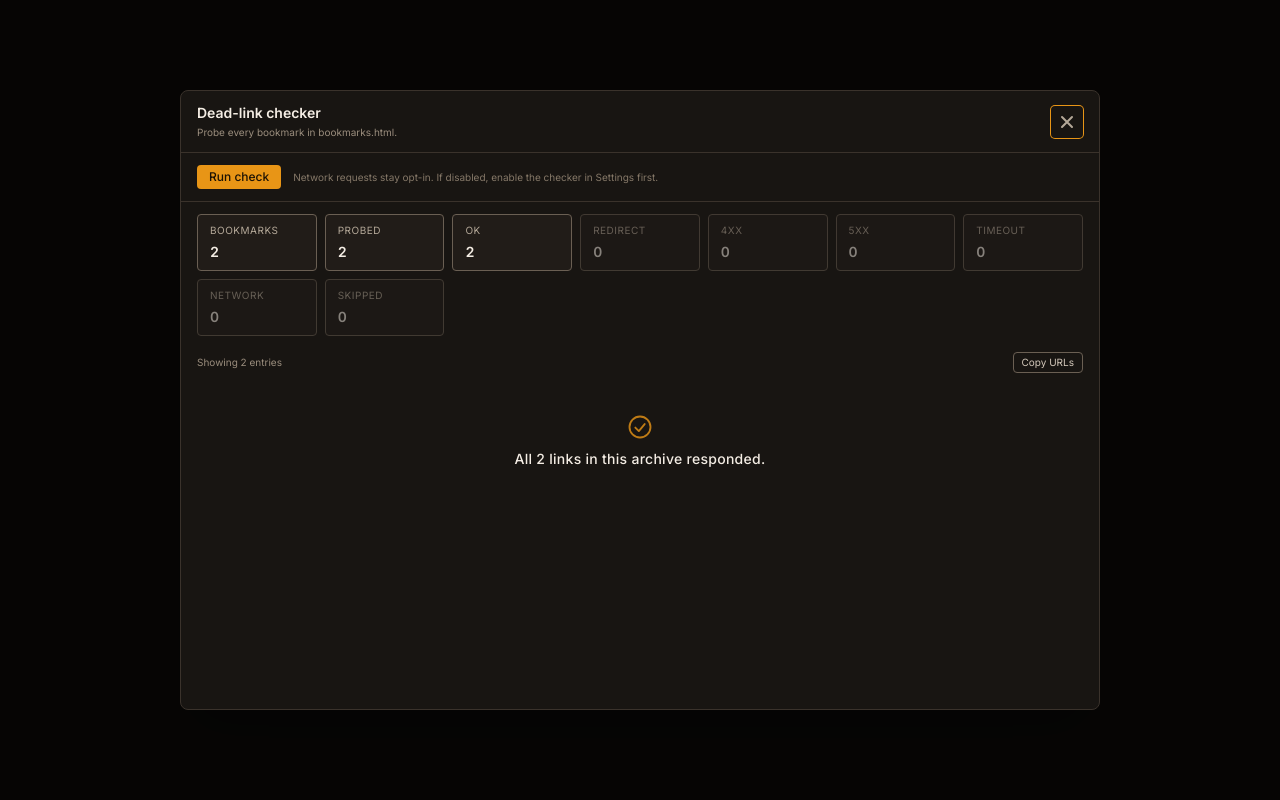
Test case: DeadLinkModal › Copy URLs writes the visible entries' URLs to the clipboard
Check: the text "Showing 2 entries" is shown, box x1=197 y1=355 x2=282 y2=370
Click the button "Copy URLs". click: (1048, 362)
box: x1=1012 y1=352 x2=1083 y2=373
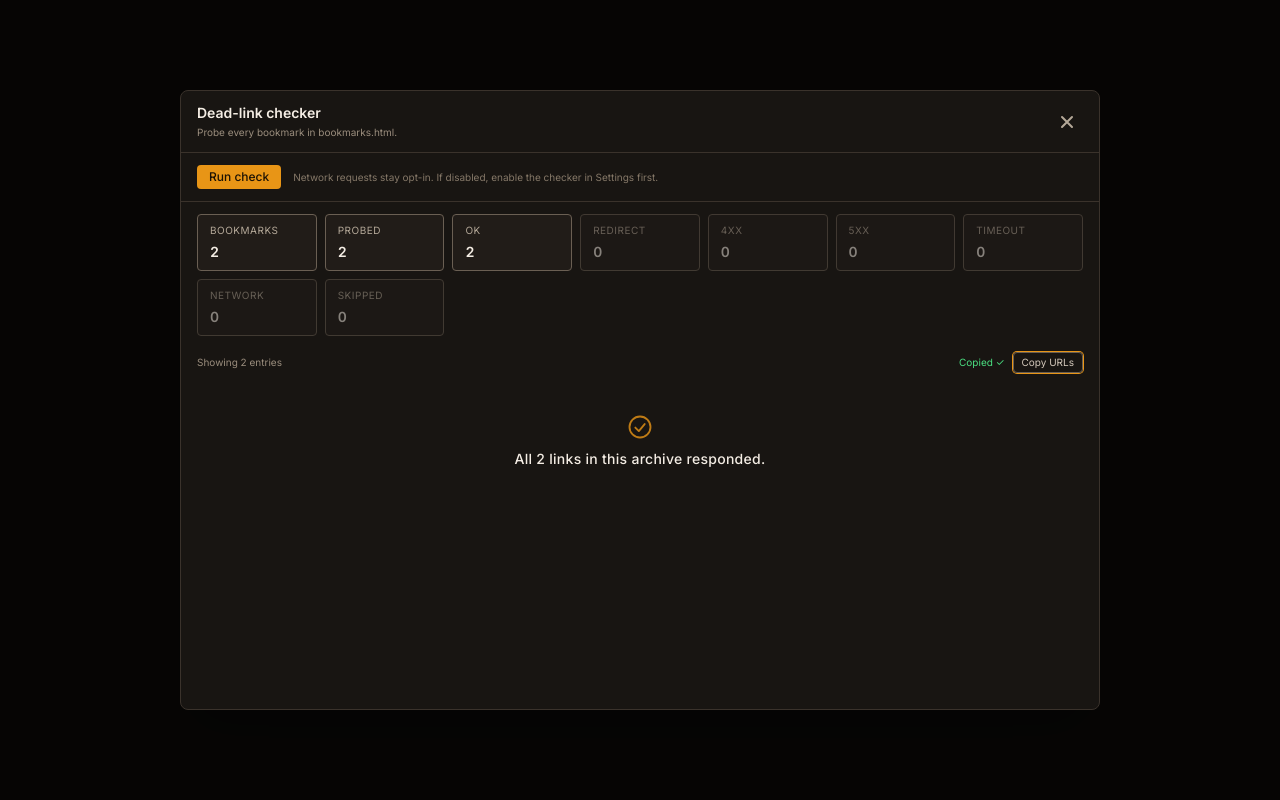
Check: the text "Copied ✓" is shown, box x1=959 y1=355 x2=1004 y2=370
